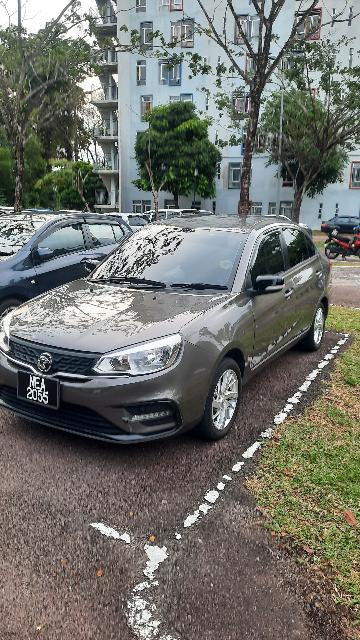License_Plate: (20, 373, 62, 412)
car: (1, 216, 337, 443), (2, 207, 137, 333)
